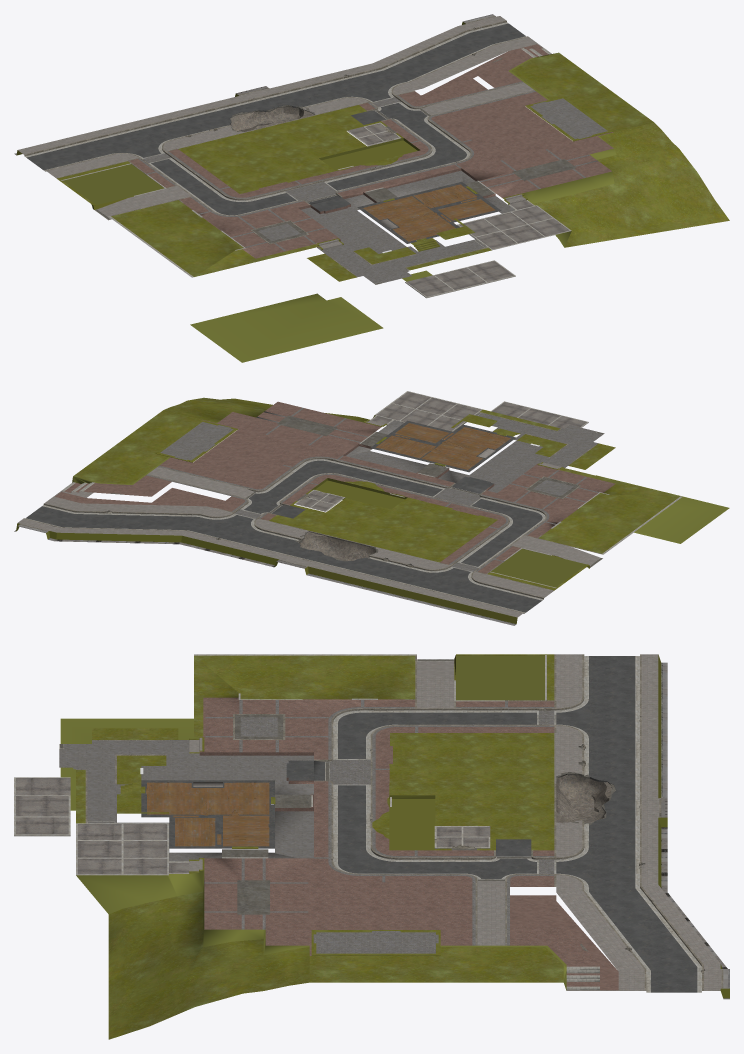
Rendered from Uptown_Base.fbx.
The picture shows the model from 3 angles, top to bottom: view 1: azimuth 30°, elevation 25°; view 2: azimuth 150°, elevation 25°; view 3: azimuth 270°, elevation 25°; orthographic projection. The views are drawn at different scales.
Visible parts, largest first — view 1: Uptown_STR_Base_0; view 2: Uptown_STR_Base_0; view 3: Uptown_STR_Base_0.
Part boxes in pixels (box(x1,y1,x2,y2)): Uptown_STR_Base_0: box(14, 14, 729, 362); Uptown_STR_Base_0: box(14, 391, 729, 625); Uptown_STR_Base_0: box(14, 654, 729, 1039).
Bounding box in the file's own units: 8370 × 833 × 7710.
Materials: 13 (12 with a texture image).
